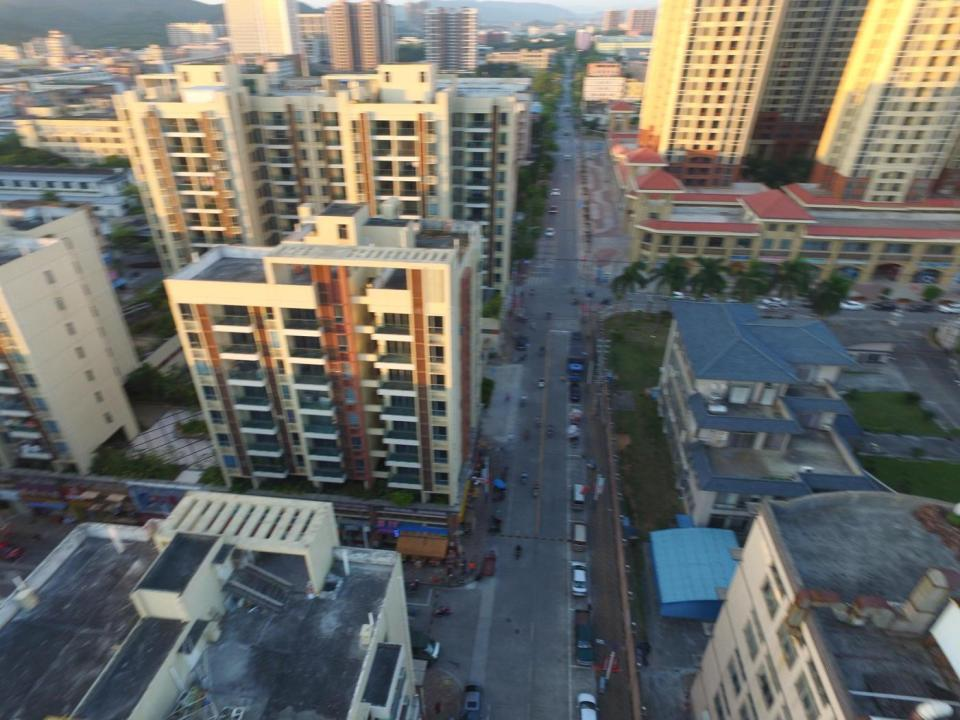bus: (562, 103, 571, 117)
car: (462, 679, 484, 718), (569, 559, 588, 597), (576, 691, 600, 720), (839, 297, 866, 311), (870, 300, 898, 310), (762, 297, 790, 307), (904, 302, 934, 311), (689, 292, 712, 303), (938, 302, 960, 313), (569, 382, 581, 401), (663, 290, 683, 300), (516, 334, 528, 350), (724, 296, 747, 304), (544, 227, 555, 238), (551, 187, 561, 196), (548, 205, 559, 213), (562, 130, 571, 138), (564, 154, 572, 160)
truck: (375, 630, 441, 667), (573, 609, 595, 666), (567, 331, 584, 381), (481, 548, 497, 575)
van: (571, 520, 588, 551), (570, 483, 585, 511)
